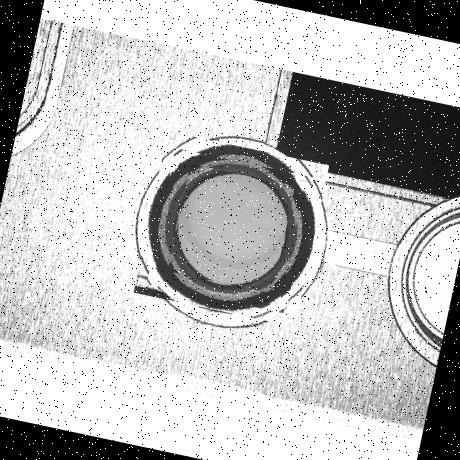Hole: (131, 130, 328, 328)
Hole2: (146, 148, 314, 314)
Hole3: (152, 154, 306, 306)
Hole4: (166, 163, 295, 293)
